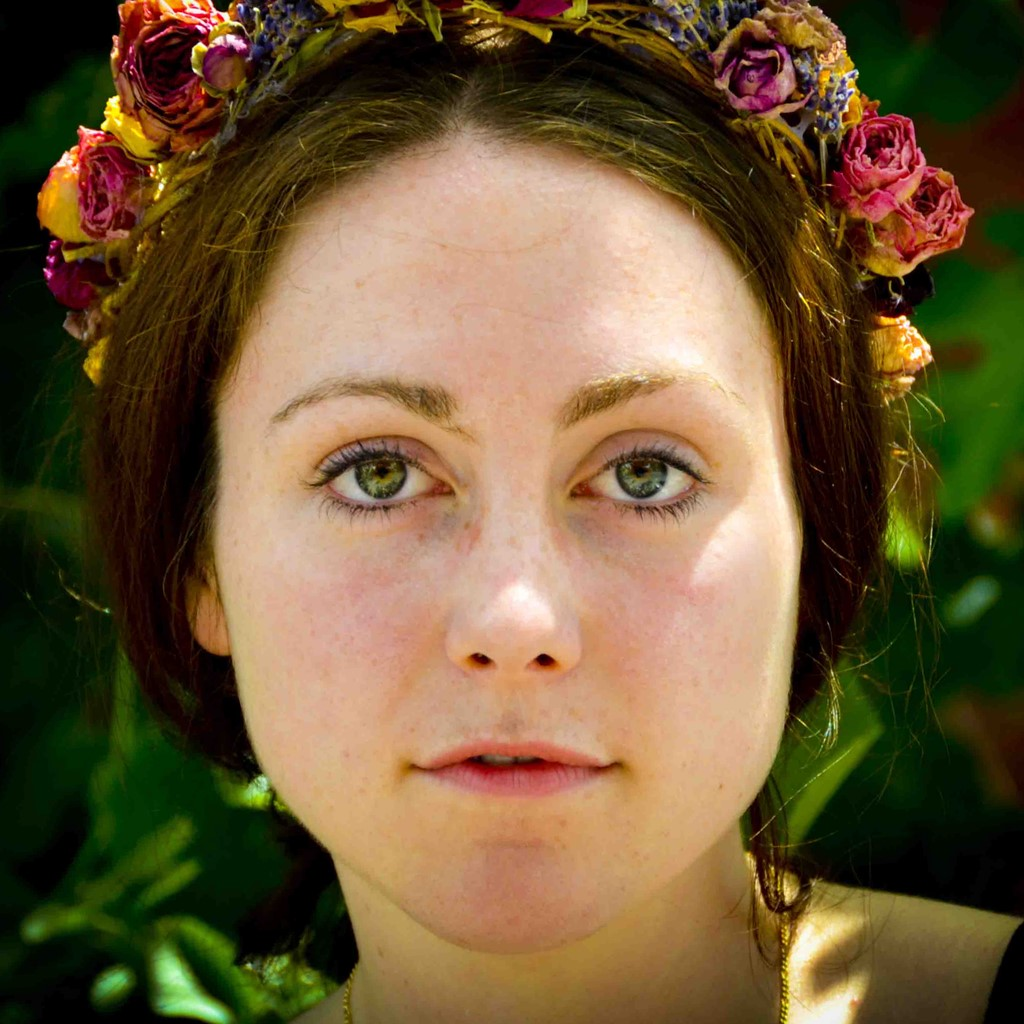sin_mascara: (235, 159, 797, 935)
